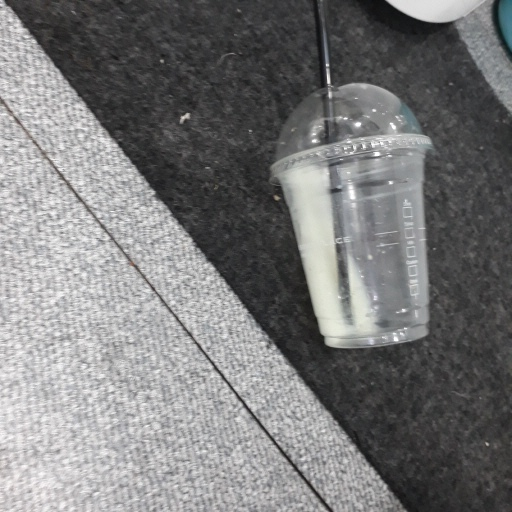Plastic_2: (268, 2, 433, 348)
